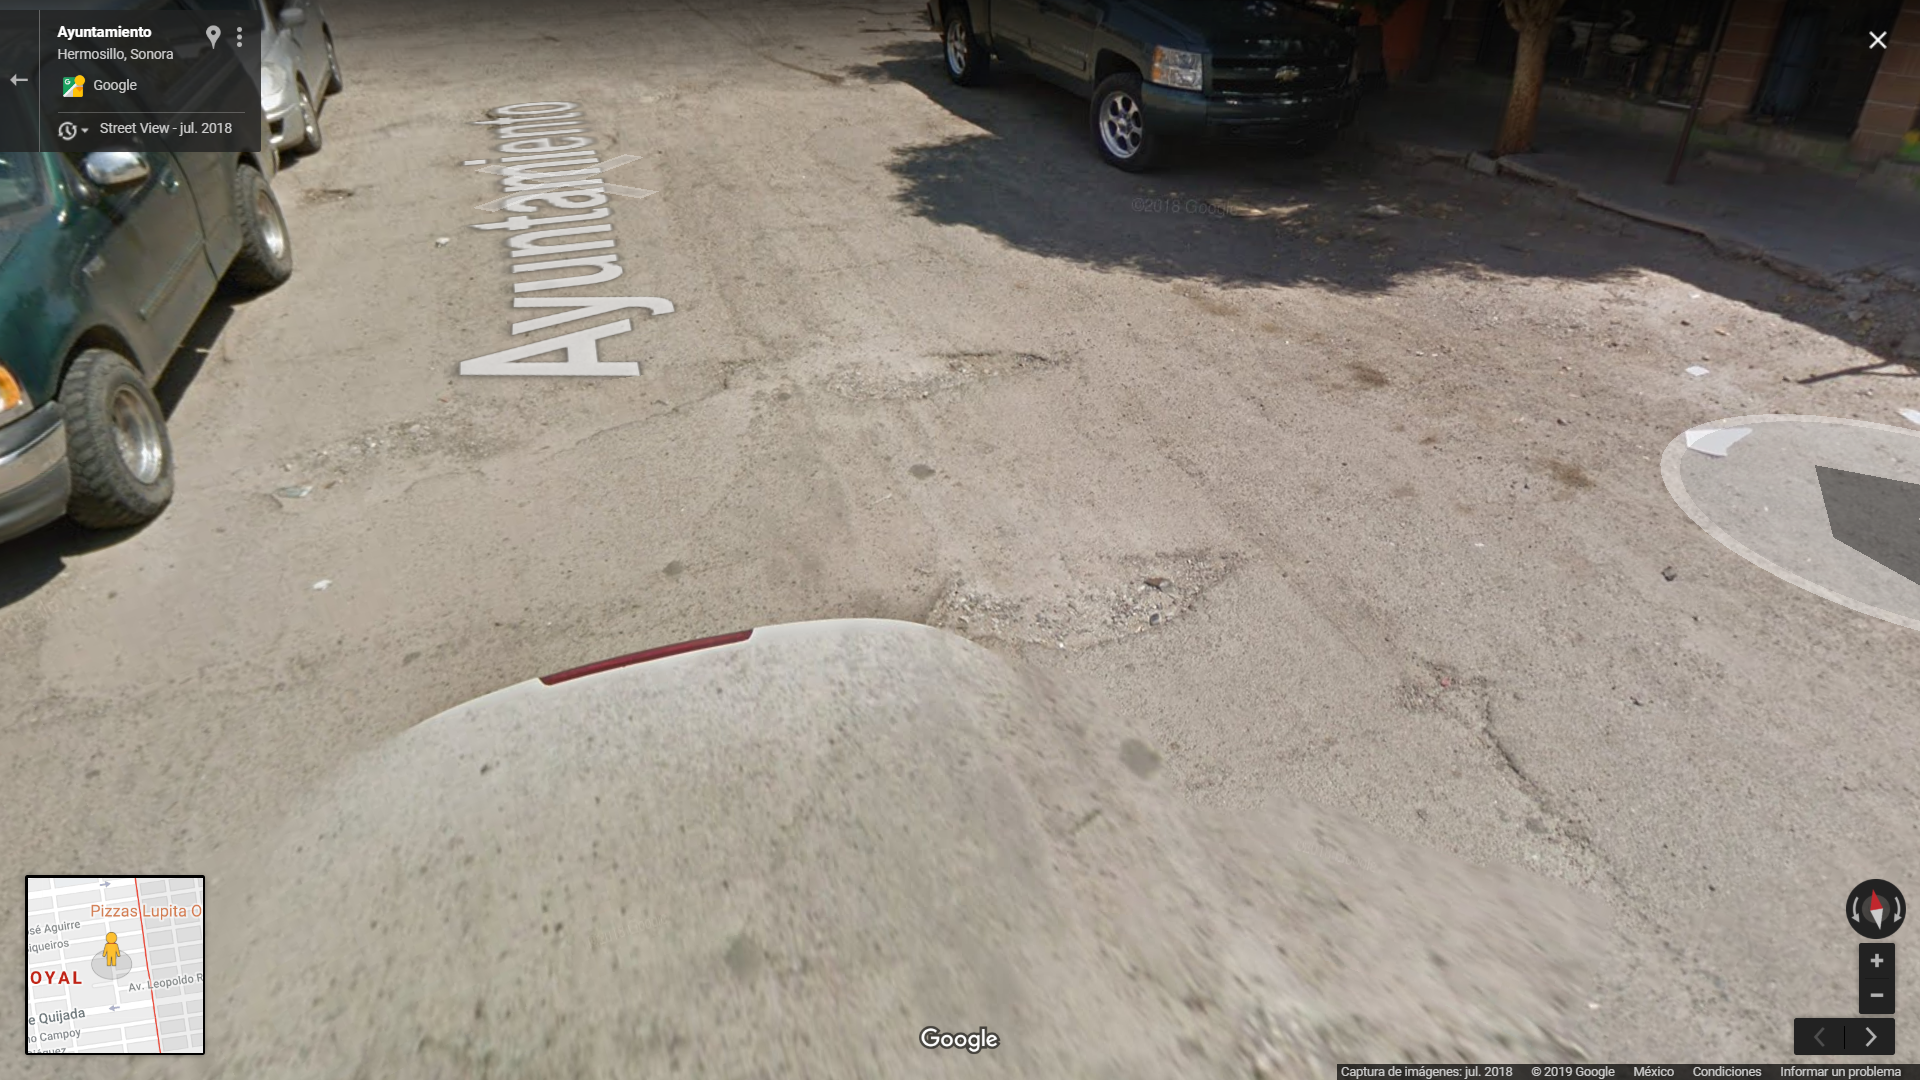pothole: (928, 514, 1279, 661), (785, 316, 1079, 425)
